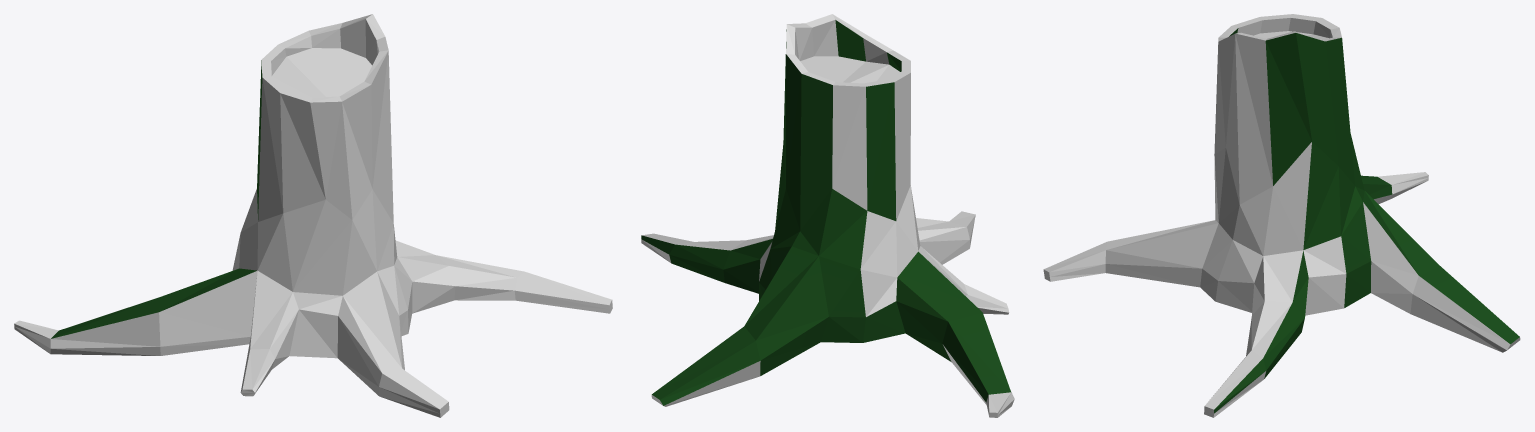
The model's file is Stump_04.fbx.
3 views of the same model, side by side, from view 1: azimuth 30°, elevation 25°; view 2: azimuth 150°, elevation 25°; view 3: azimuth 270°, elevation 25° (orthographic). The views are drawn at different scales.
Parts seen in each view (by area): view 1: Stump_04; view 2: Stump_04; view 3: Stump_04.
Boxes of the visible parts, bbox=[...] form: Stump_04: bbox=[14, 14, 612, 417]; Stump_04: bbox=[641, 14, 1014, 417]; Stump_04: bbox=[1043, 14, 1520, 417].
Bounding box in the file's own units: 186 × 118 × 166.
